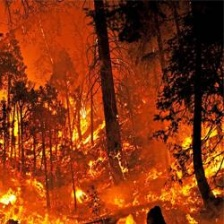fire: (1, 189, 206, 223), (71, 103, 98, 144)
